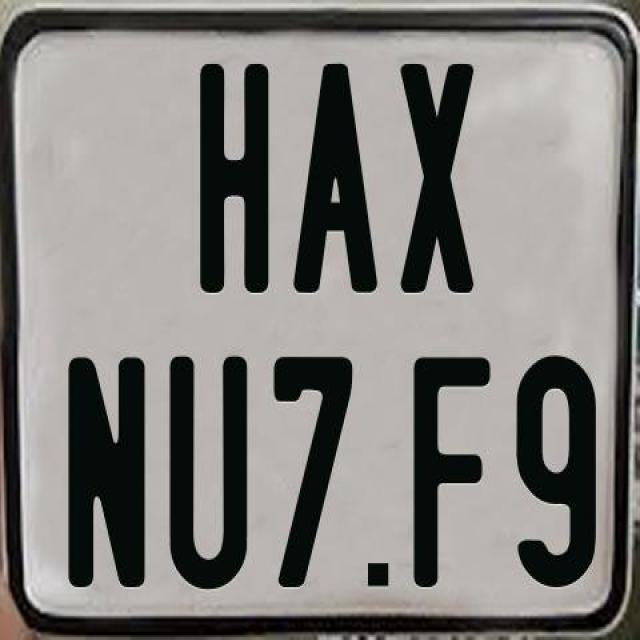7: (269, 357, 351, 597)
9: (516, 351, 603, 584)
A: (293, 61, 384, 293)
F: (413, 352, 491, 587)
H: (200, 61, 276, 300)
N: (68, 352, 148, 584)
U: (168, 353, 248, 588)
X: (398, 59, 481, 294)
